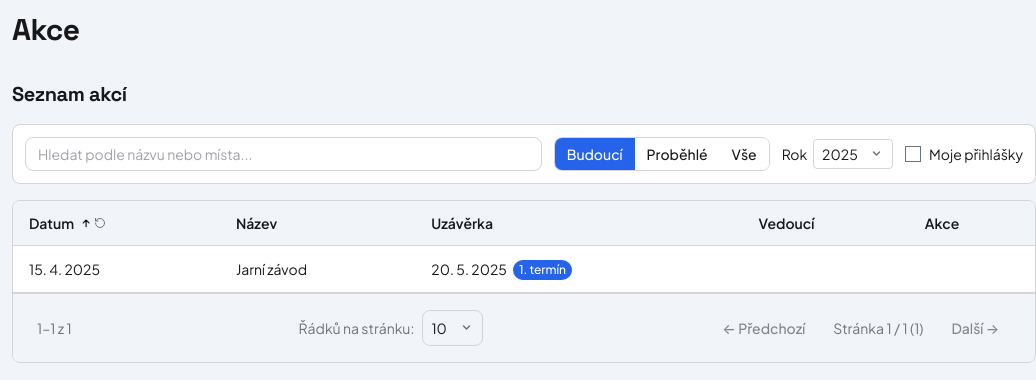
it: EventsPage › deadlines column (6.4) › lists future deadlines in the tooltip when later deadlines remain
The image size is (1036, 380).
Expected: the text "20. 5. 2025" is shown, [431,259,507,279]
Hover over the text "1. termín" at (542, 270), box [513,260,572,280]
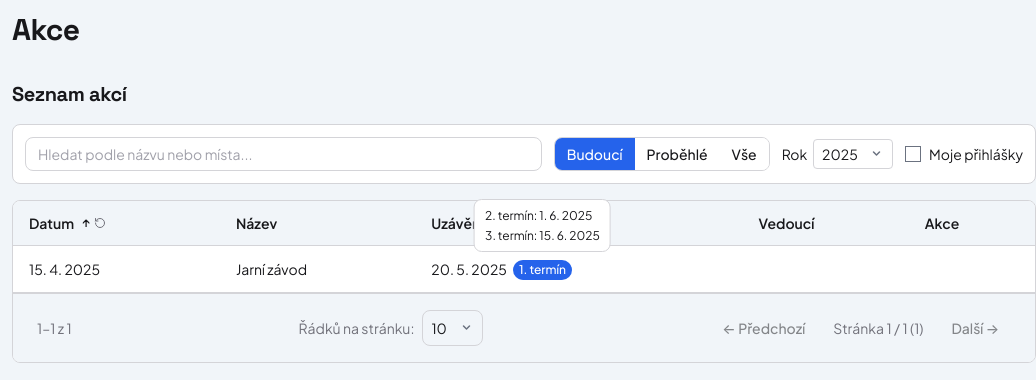
Expected: the tooltip shows "2. termín: 1. 6. 2025", [485,208,600,242]
Expected: the tooltip shows "3. termín: 15. 6. 2025", [485,208,600,242]
